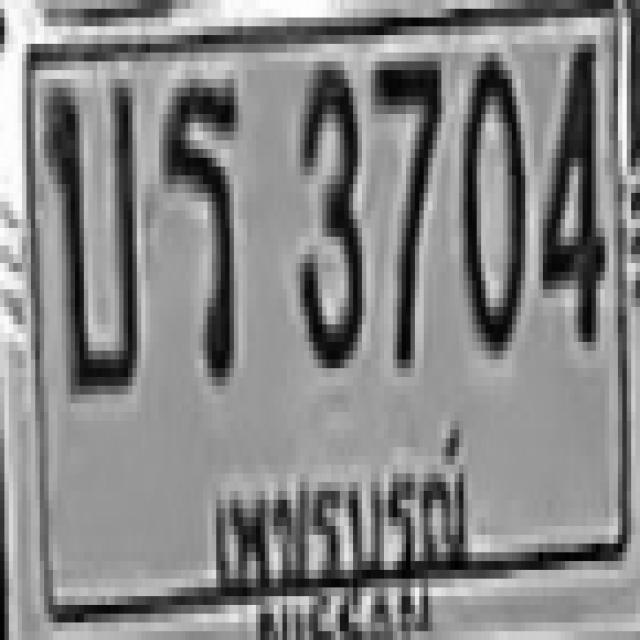0: (459, 44, 521, 351)
3: (296, 62, 358, 360)
35BorBaiMai: (40, 75, 137, 390)
4: (538, 35, 600, 342)
44RorRuea: (159, 70, 234, 377)
7: (371, 53, 437, 360)
Phetchabun: (192, 418, 482, 591)
